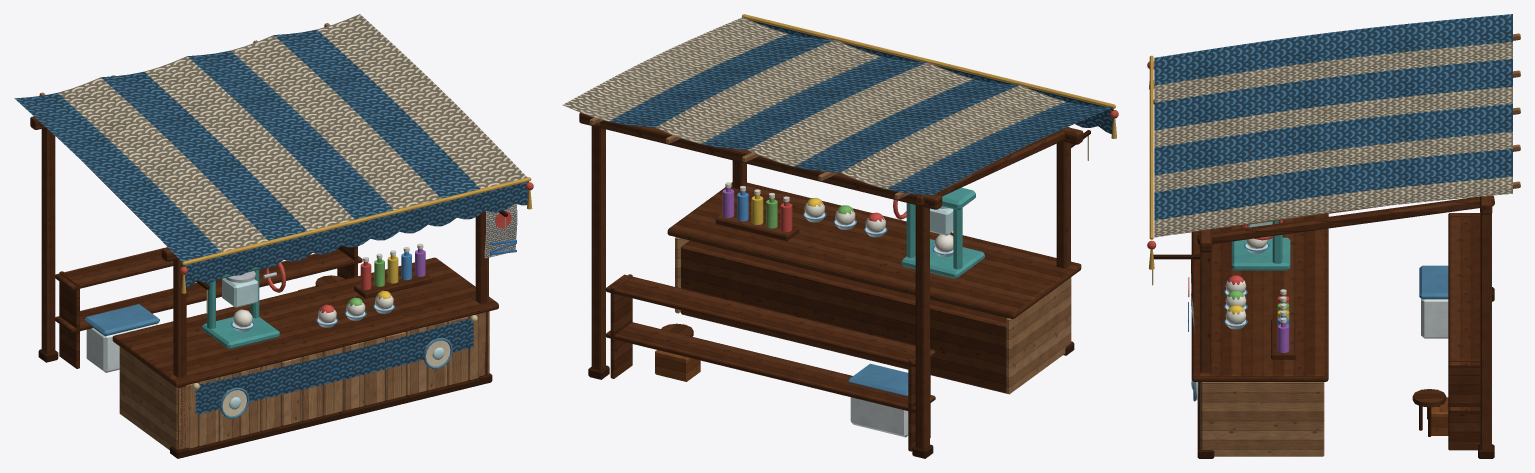
Rendered from env_stall_ice.glb.
3 renders of one model, left to right at view 1: azimuth 30°, elevation 25°; view 2: azimuth 150°, elevation 25°; view 3: azimuth 270°, elevation 25°, orthographic. The views are drawn at different scales.
Parts seen in each view (by area): view 1: env_stall_ice; view 2: env_stall_ice; view 3: env_stall_ice.
Part boxes in pixels (x1=…): env_stall_ice: x1=14, y1=14, x2=533, y2=458; env_stall_ice: x1=562, y1=14, x2=1118, y2=458; env_stall_ice: x1=1147, y1=14, x2=1520, y2=458.
Bounding box in the file's own units: 5.25 × 3.62 × 4.48.
Materials: 3 (3 with a texture image).
